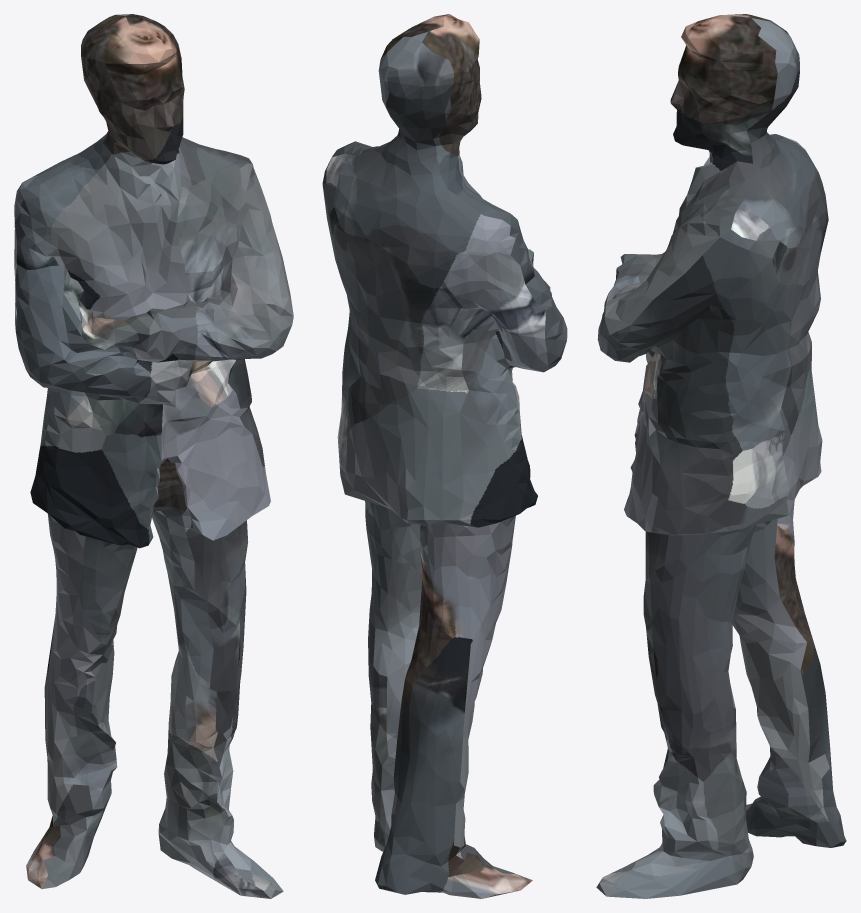
File: man_6.glb
The picture shows the model from 3 angles, left to right: view 1: azimuth 30°, elevation 25°; view 2: azimuth 150°, elevation 25°; view 3: azimuth 270°, elevation 25°; orthographic projection.
Parts seen in each view (by area): view 1: man_6; view 2: man_6; view 3: man_6.
Boxes of the visible parts, x1,y1,x2,y2 form: man_6: [14, 14, 293, 898]; man_6: [322, 14, 567, 898]; man_6: [596, 14, 846, 898].
Size of the model in its own units: 0.4675 by 1.64 by 0.4451.
1 material, 1 textured.
